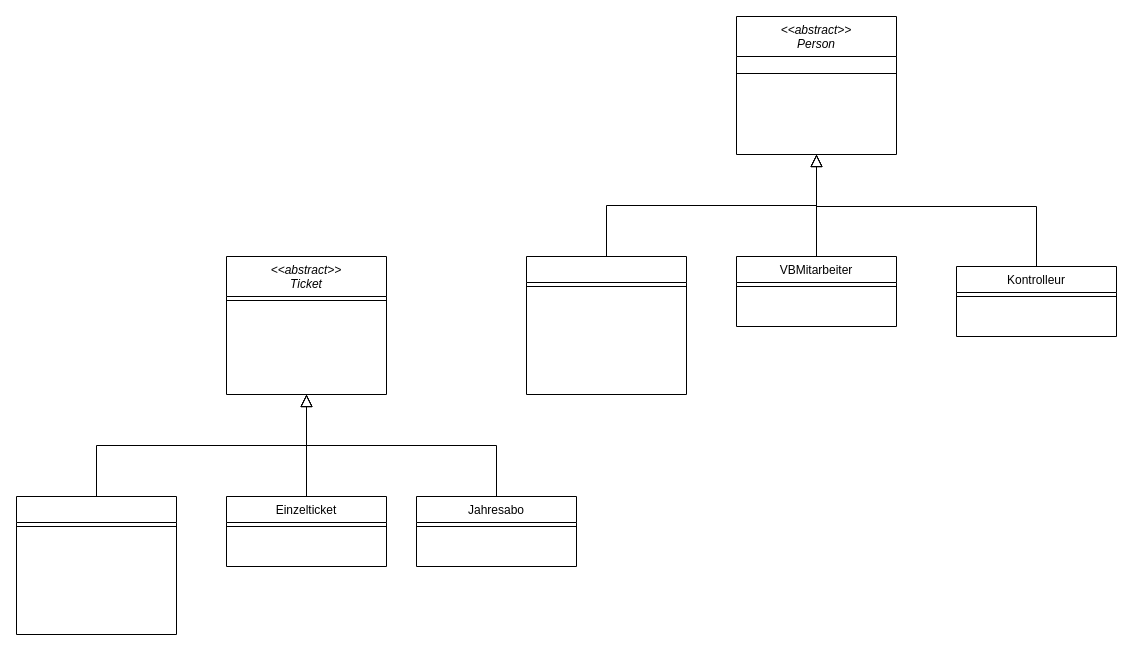
The diagram is 1133 pixels wide and 651 high, and some of its shapes have lost their labels. The centre of each missing label's shape, as x and y in pixels:
"Fahrgast" belongs at point (606, 325).
"Mehrfachticket" belongs at point (96, 565).
